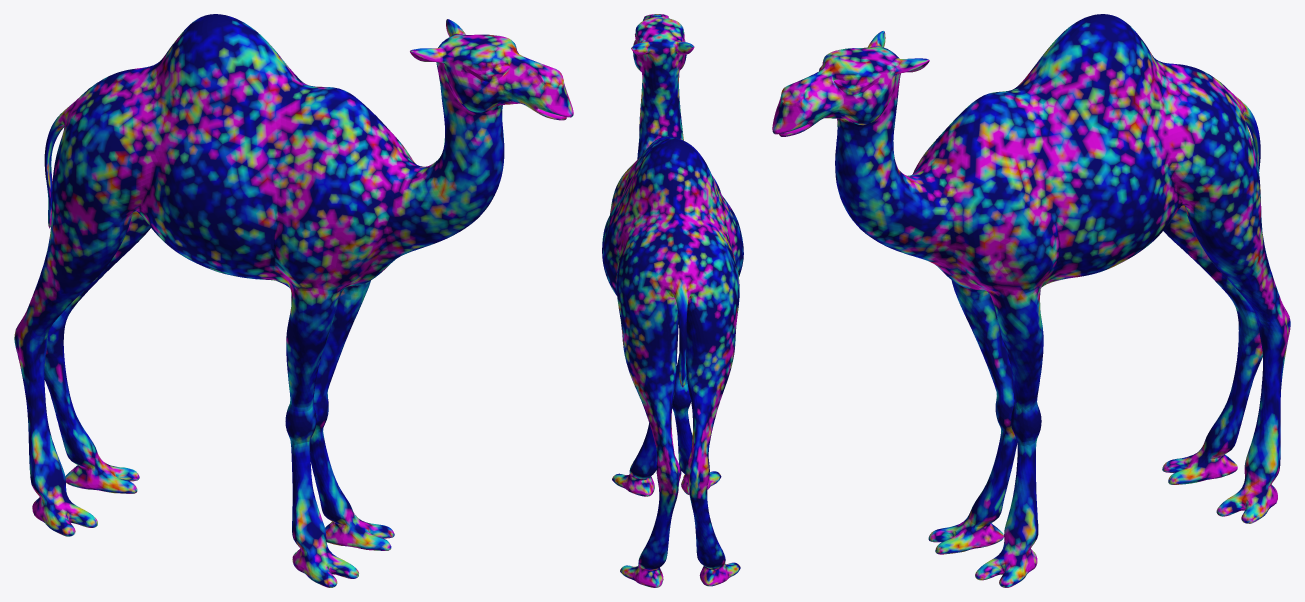
File: camel_curv_3nn.obj
The picture shows the model from 3 angles, left to right: view 1: azimuth 30°, elevation 25°; view 2: azimuth 150°, elevation 25°; view 3: azimuth 270°, elevation 25°; orthographic projection. The views are drawn at different scales.
Size of the model in its own units: 0.6039 by 0.9779 by 0.8482.
